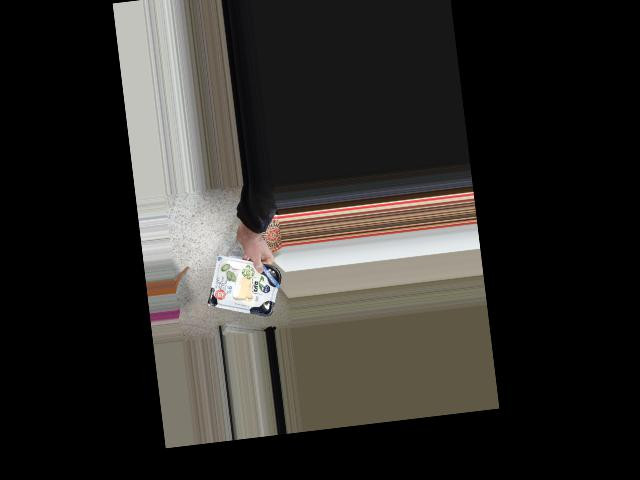cheese: (212, 259, 278, 313)
